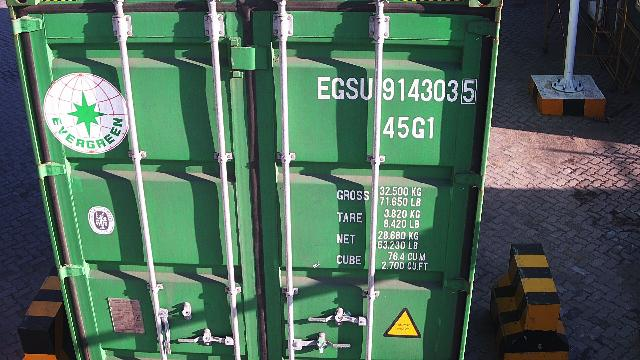0: (434, 79, 446, 103)
1: (398, 78, 406, 102)
3: (446, 79, 458, 103), (421, 78, 433, 102)
4: (408, 78, 420, 102)
5: (462, 78, 476, 103)
9: (382, 77, 394, 101)
E: (317, 76, 331, 100)
G: (332, 78, 344, 100)
S: (346, 76, 358, 100)
U: (360, 78, 372, 100)
